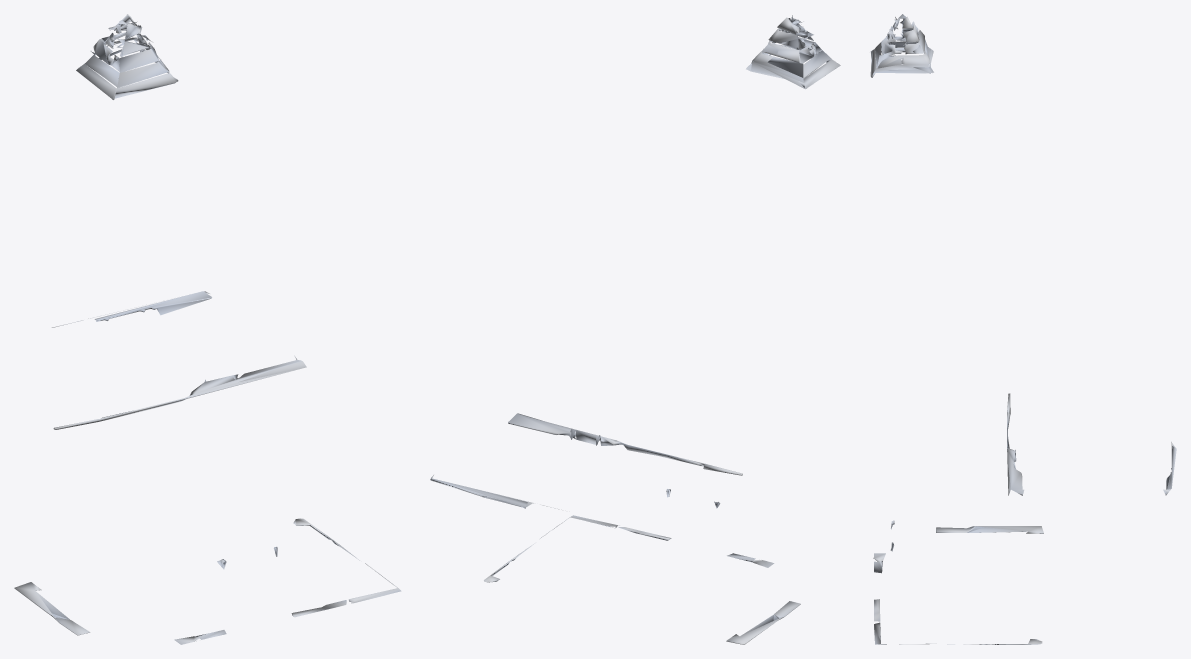
File: protocol.lido.snow.glb
3 renders of one model, left to right at view 1: azimuth 30°, elevation 25°; view 2: azimuth 150°, elevation 25°; view 3: azimuth 270°, elevation 25°, orthographic. The views are drawn at different scales.
Parts seen in each view (by area): view 1: building.protocol.lido.snow.mesh; view 2: building.protocol.lido.snow.mesh; view 3: building.protocol.lido.snow.mesh.
Part boxes in pixels (left/top/right/bottom): building.protocol.lido.snow.mesh: left=14, top=14, right=401, bottom=644; building.protocol.lido.snow.mesh: left=430, top=15, right=840, bottom=644; building.protocol.lido.snow.mesh: left=870, top=14, right=1176, bottom=644.
Bounding box in the file's own units: 12.34 × 25.25 × 13.39.
